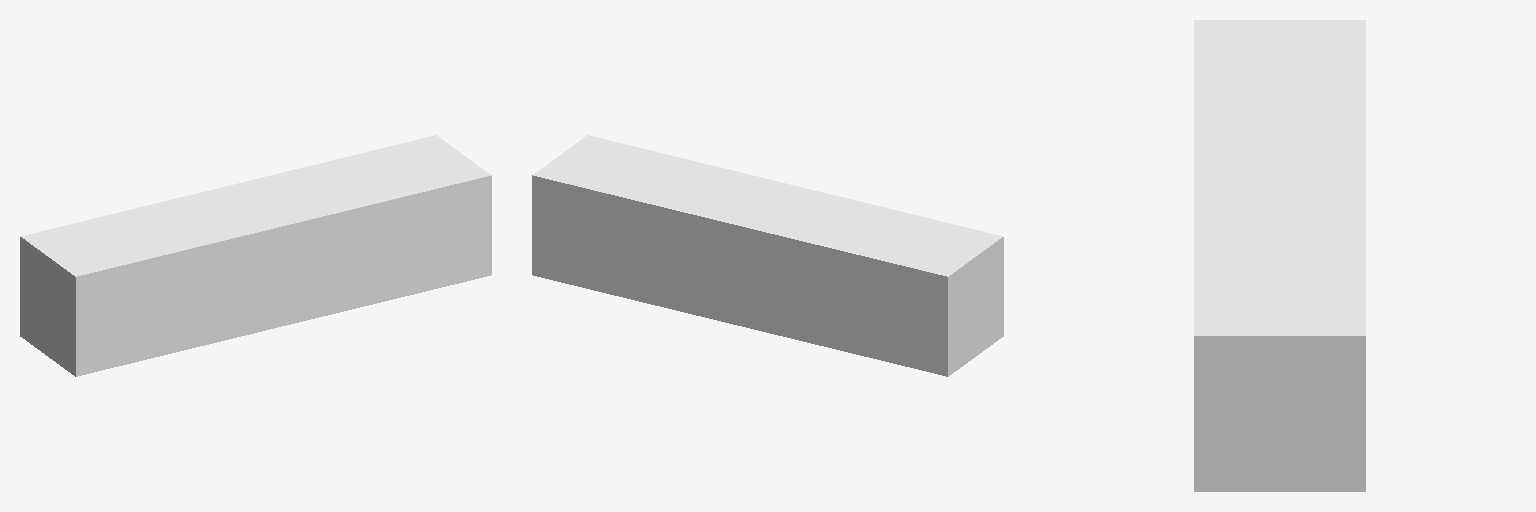
The robot description file, URDF, robot "20x87mmcuboid.SLDPRT":
<?xml version="1.0" encoding="utf-8"?>
<!-- This URDF was automatically created by SolidWorks to URDF Exporter! Originally created by [author] ([email redacted]) 
     Commit Version: 1.5.1-0-g916b5db  Build Version: 1.5.7152.31018
     For more information, please see http://wiki.ros.org/sw_urdf_exporter -->
<robot
  name="20x87mmcuboid.SLDPRT">
  <link
    name="20x87mmcuboid">
    <inertial>
      <origin
        xyz="7.6995E-18 -0.01 8.02463176911189E-19"
        rpy="0 0 0" />
      <mass
        value="0.1958" />
      <inertia
        ixx="1.972E-05"
        ixy="-3.474E-22"
        ixz="1.5666E-21"
        iyy="0.00019644"
        iyz="-4.77110000000001E-22"
        izz="0.00019644" />
    </inertial>
    <visual>
      <origin
        xyz="0 0 0"
        rpy="1.5707963267949 0 0" />
      <geometry>
        <mesh
          filename="package://20x87mmcuboid/meshes/20x87mmcuboid.STL" />
      </geometry>
      <material
        name="">
        <color
          rgba="1 1 1 1" />
        <texture
          filename="package://20x87mmcuboid/textures/" />
      </material>
    </visual>
    <collision>
      <origin
        xyz="0 0 0"
        rpy="1.5707963267949 0 0" />
      <geometry>
        <mesh
          filename="package://20x87mmcuboid/meshes/20x87mmcuboid.STL" />
      </geometry>
    </collision>
  </link>
</robot>

--- Facts derived from the render (not from the file) ---
The picture shows the robot from 3 angles, left to right: view 1: azimuth 30°, elevation 25°; view 2: azimuth 150°, elevation 25°; view 3: azimuth 270°, elevation 25°; orthographic projection.
Robot: 20x87mmcuboid.SLDPRT — 1 links, 0 joints (none); root link 20x87mmcuboid; default pose: every joint at zero.
Visible links, largest first — view 1: 20x87mmcuboid; view 2: 20x87mmcuboid; view 3: 20x87mmcuboid.
Link boxes in pixels (x1,y1,x2,y2): 20x87mmcuboid: (20, 135, 491, 376); 20x87mmcuboid: (532, 135, 1003, 376); 20x87mmcuboid: (1194, 20, 1365, 491).
Bounding box of the posed robot: 0.087 × 0.02 × 0.02 m (x, y, z).
Meshes: 1 distinct files referenced, 1 mesh visuals loaded (1 binary STL).